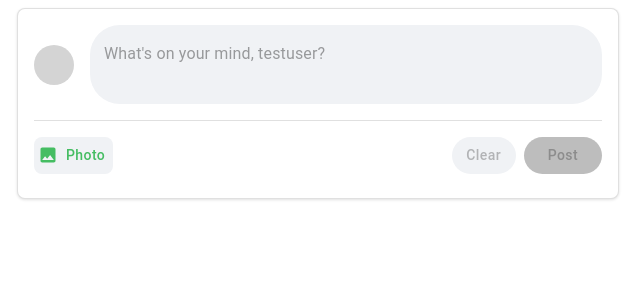
Scenario: CreatePost Component › shows error message on failed submission
Type "Test post" into the text box with placeholder "What's on your mind, testuser?".
click(346, 64); type("Test post")  # box [104,42,588,88]
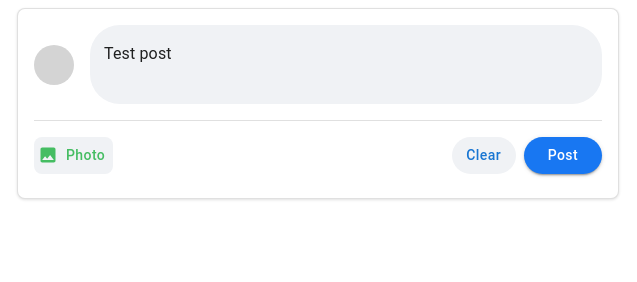
Click the button "Post".
click(563, 155)  # box [524,137,602,174]
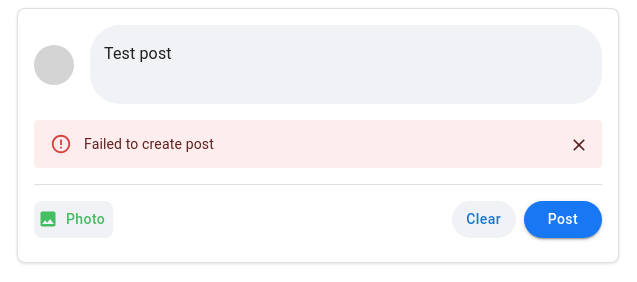
Expected: the text "Failed to create post" is shown, [84,136,214,152]
